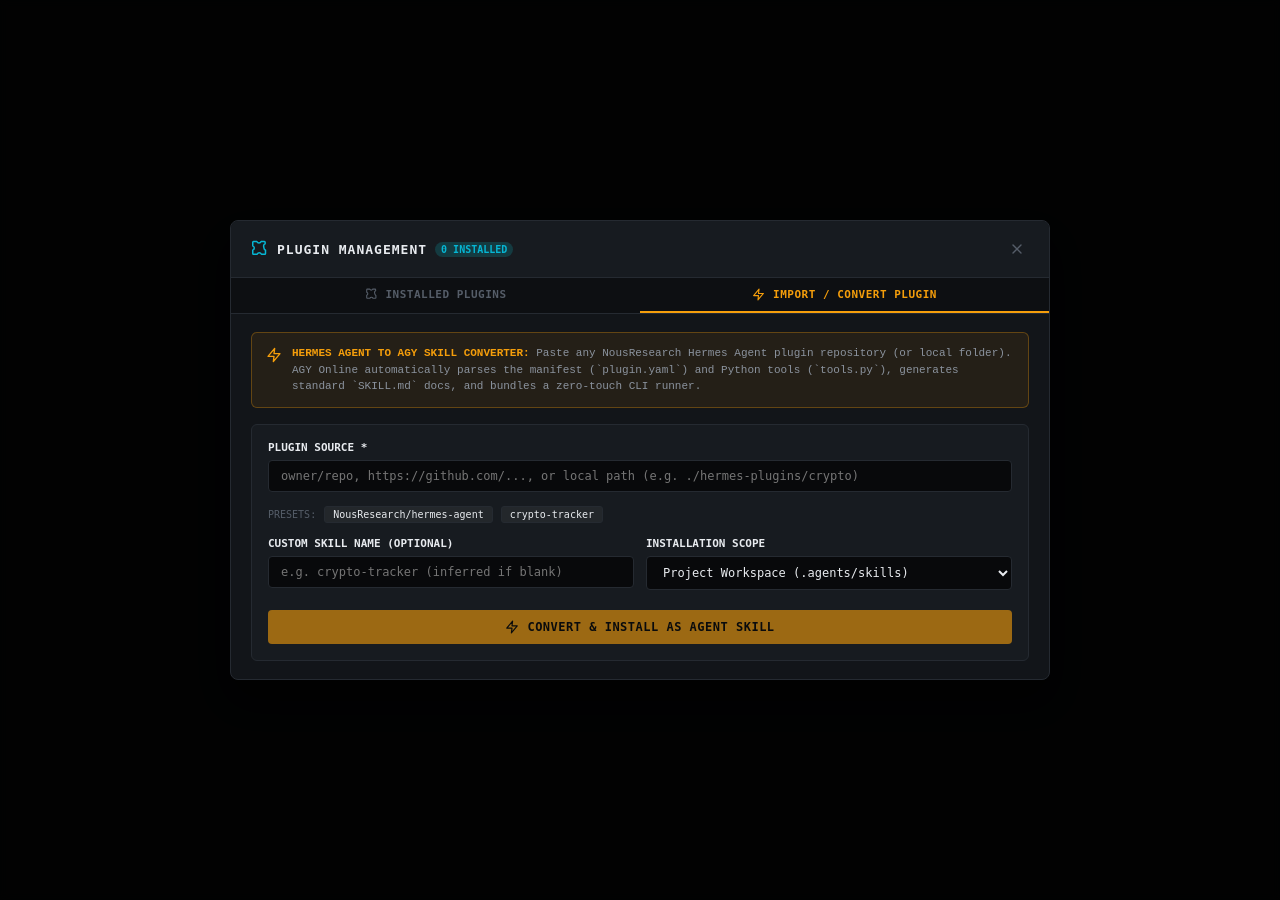
Test: PluginsModal › displays error banner when Hermes conversion fails
Replace the text in the field labelled "PLUGIN SOURCE *" with "invalid/repo" at {"x": 640, "y": 476}, box [268,460,1012,492]
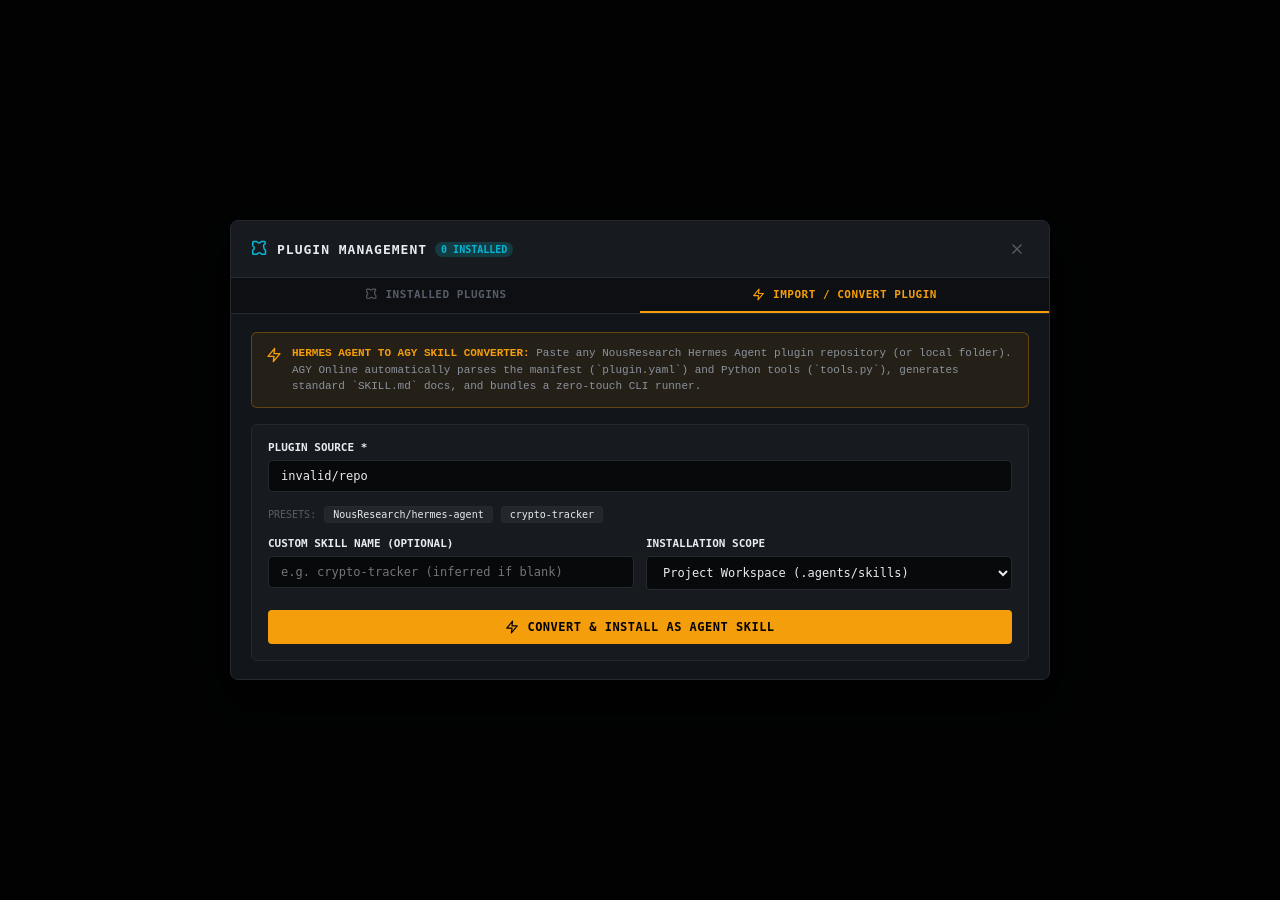
Click the button "CONVERT & INSTALL AS AGENT SKILL" at {"x": 640, "y": 627}, box [268,610,1012,644]
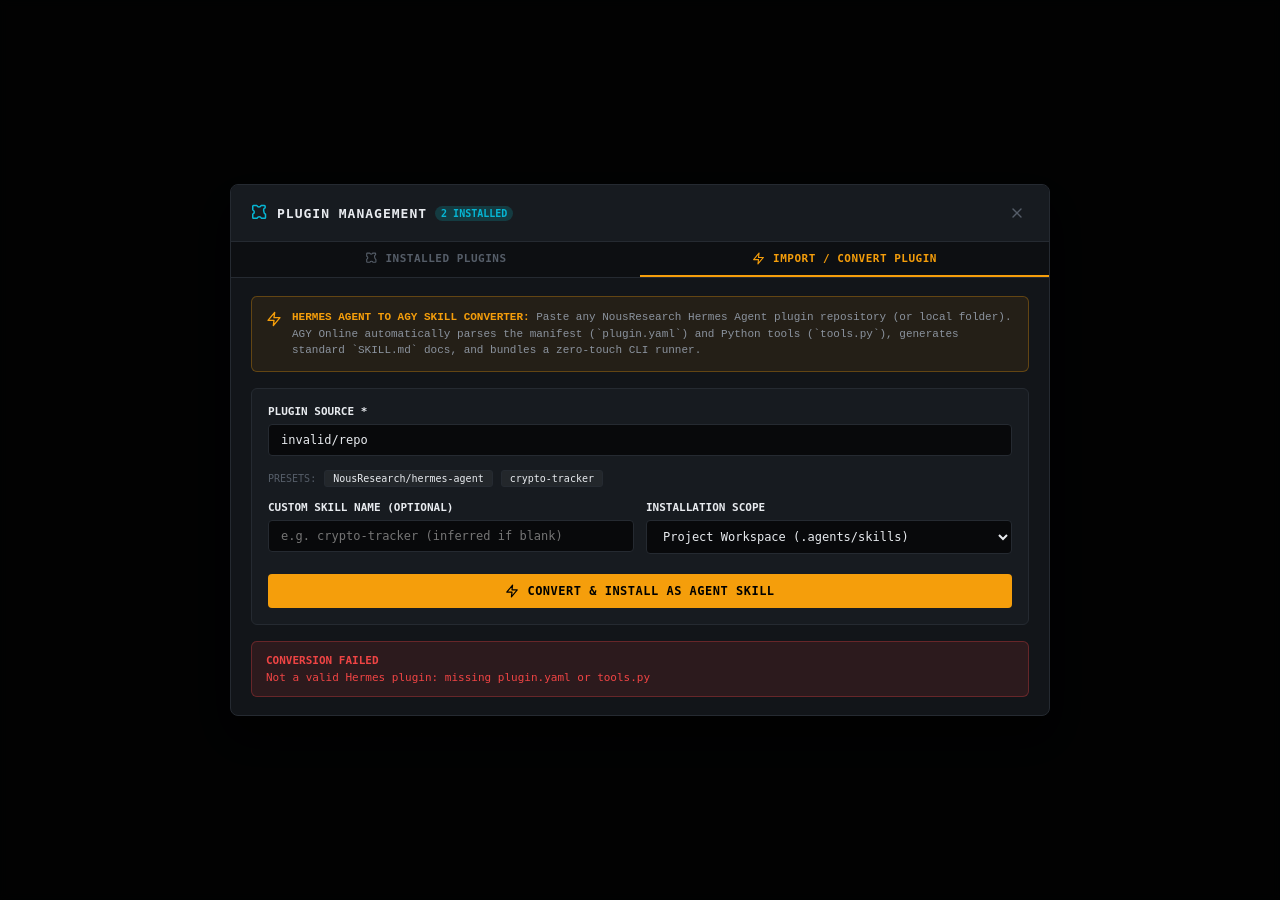
Result: the text "CONVERSION FAILED" is shown at [266,654,379,667]
Result: the text "Not a valid Hermes plugin: missing plugin.yaml or tools.py" is shown at [266,671,650,684]
